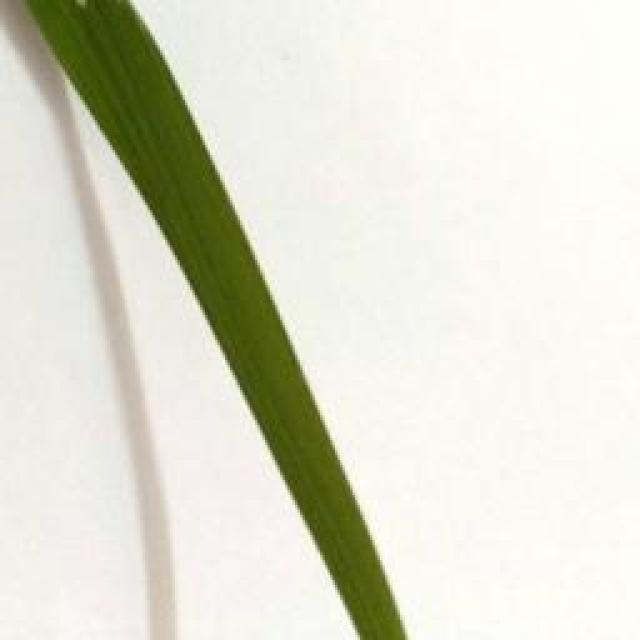Healthy-Plant: (122, 183, 276, 314), (237, 410, 383, 546), (64, 90, 233, 204), (183, 291, 325, 424), (18, 0, 187, 98), (283, 520, 415, 640)
